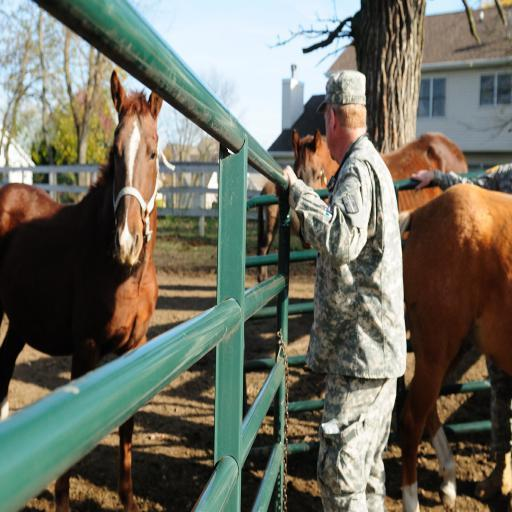horse: (0, 64, 164, 512), (397, 186, 511, 511), (291, 124, 470, 246)
